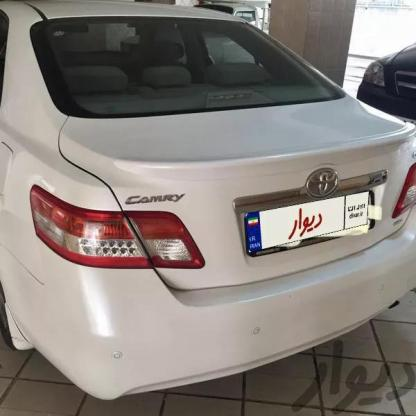Car: (0, 0, 416, 408), (354, 43, 416, 174)
